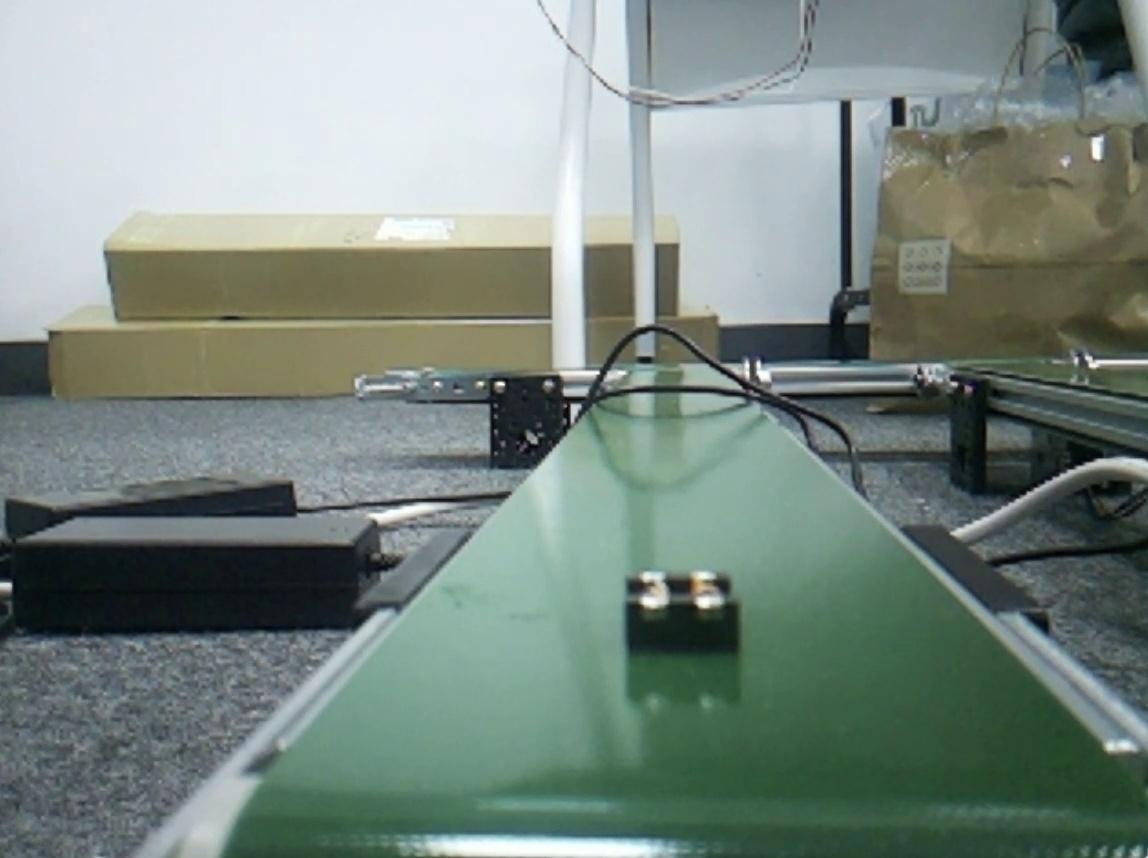inductor: (622, 567, 734, 653)
